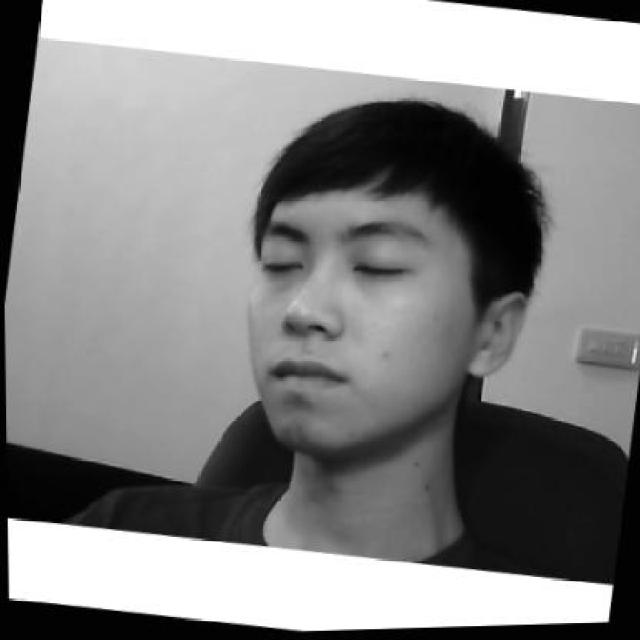inattentif: (219, 78, 553, 480)
